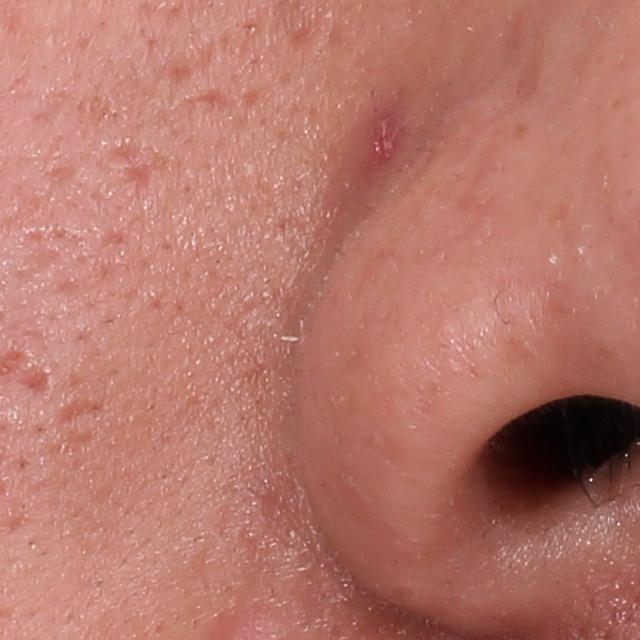atrophic_scar: (51, 397, 117, 428), (168, 89, 234, 116)
